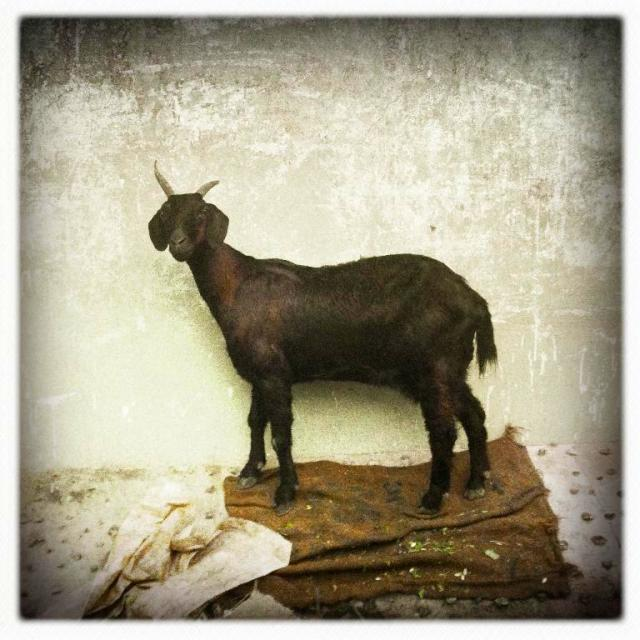Goat: (148, 158, 502, 517)
